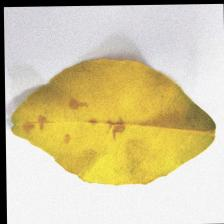canker: (22, 90, 128, 150)
